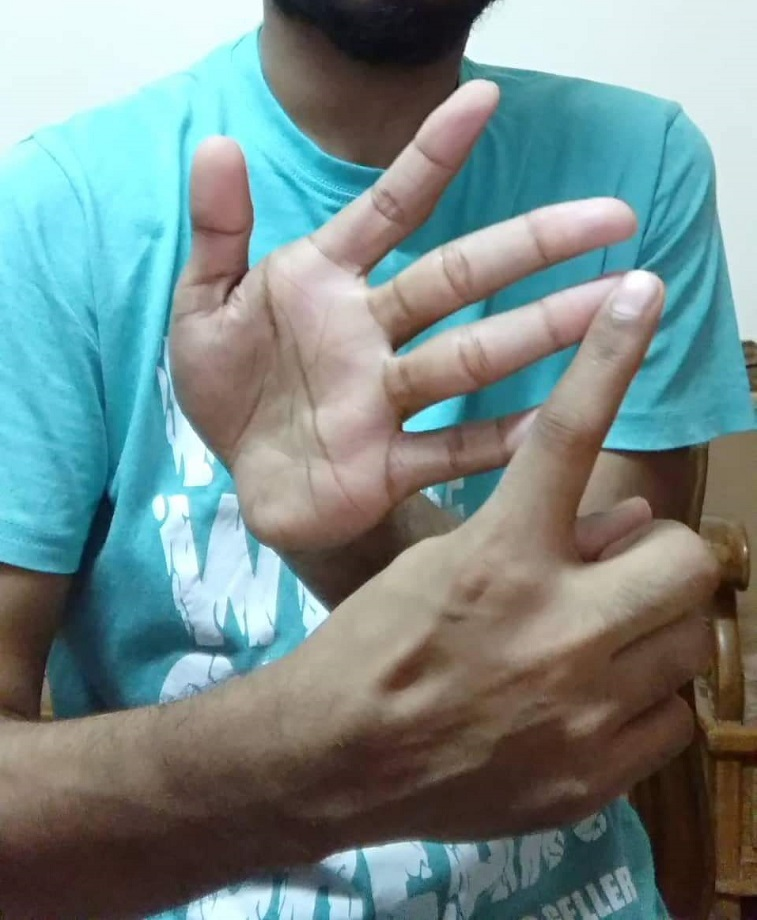e: (182, 75, 714, 806)
